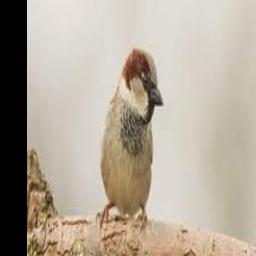Sparrow: (97, 48, 163, 236)
